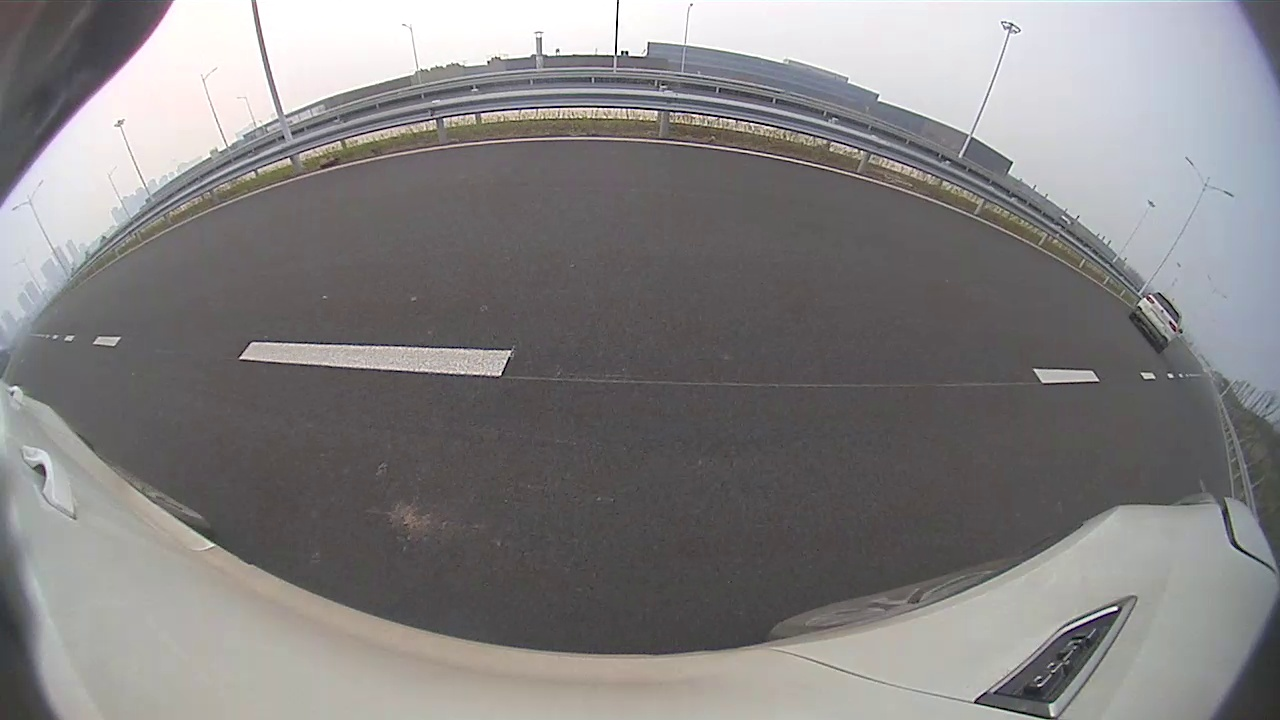car: (1129, 291, 1184, 352)
